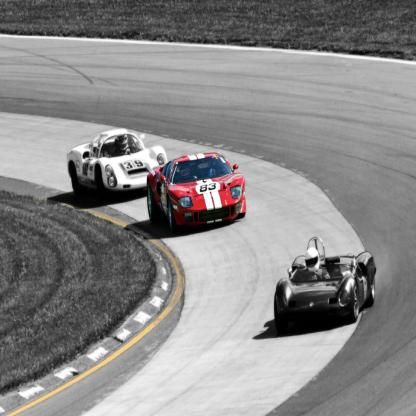Car: (274, 233, 378, 338), (147, 149, 248, 235), (68, 128, 171, 202)
